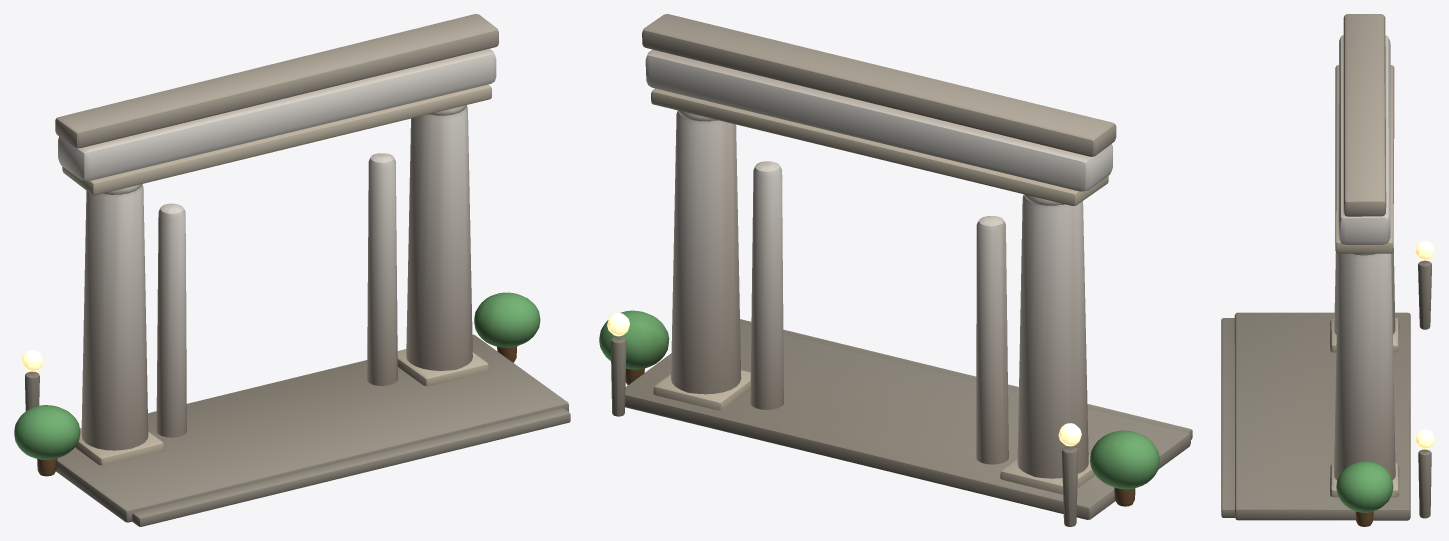
The picture shows the model from 3 angles, left to right: view 1: azimuth 30°, elevation 25°; view 2: azimuth 150°, elevation 25°; view 3: azimuth 270°, elevation 25°; orthographic projection. The views are drawn at different scales.
Visible parts, largest first — view 1: gate_323423ad; view 2: gate_323423ad; view 3: gate_323423ad.
Part boxes in pixels (x1,y1,x2,y2): gate_323423ad: (14, 14, 570, 526); gate_323423ad: (599, 14, 1192, 526); gate_323423ad: (1221, 14, 1434, 526).
Size of the model in its own units: 6.52 by 4.17 by 2.55.
